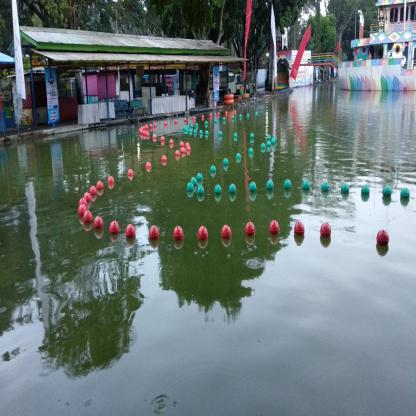green_buoy: (380, 184, 392, 203), (228, 184, 238, 203), (283, 177, 294, 194), (360, 184, 372, 199), (341, 180, 350, 198), (320, 180, 330, 196), (215, 184, 223, 204), (399, 188, 409, 204), (266, 180, 275, 196), (185, 181, 193, 199), (248, 183, 257, 199), (302, 180, 313, 192), (260, 140, 268, 156), (197, 183, 204, 200), (236, 151, 243, 166), (222, 158, 229, 170), (209, 164, 216, 176), (248, 148, 255, 158)
red_buoy: (316, 225, 332, 248), (375, 232, 389, 257), (172, 225, 183, 248), (148, 225, 160, 246), (268, 223, 280, 242), (126, 227, 138, 246), (222, 225, 232, 247), (247, 221, 256, 244), (199, 227, 209, 247), (295, 225, 305, 244), (95, 216, 102, 236), (96, 177, 104, 194), (111, 221, 119, 238), (82, 192, 92, 205), (78, 206, 86, 221), (144, 160, 152, 174), (106, 175, 114, 189), (90, 183, 96, 200), (126, 166, 135, 177), (85, 214, 93, 226), (172, 151, 179, 162), (160, 155, 166, 163)
